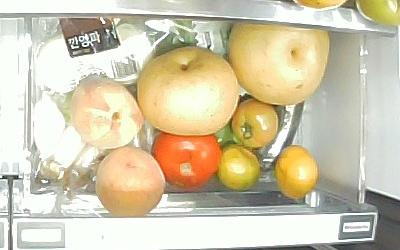peach: (68, 73, 144, 150), (94, 145, 166, 219)
pear: (134, 46, 241, 136), (226, 21, 331, 106)
tangerine: (273, 144, 319, 199), (215, 143, 260, 191)
tomato: (152, 130, 221, 190), (230, 97, 279, 149)
